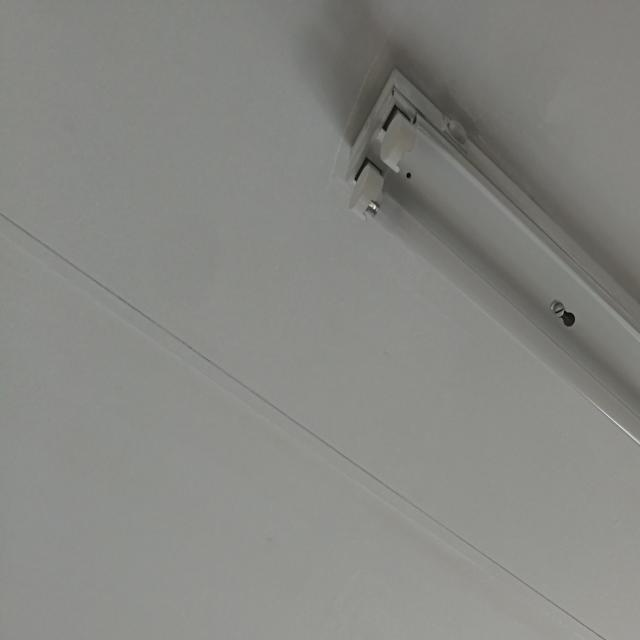fluorescent tube: (319, 64, 639, 640)
